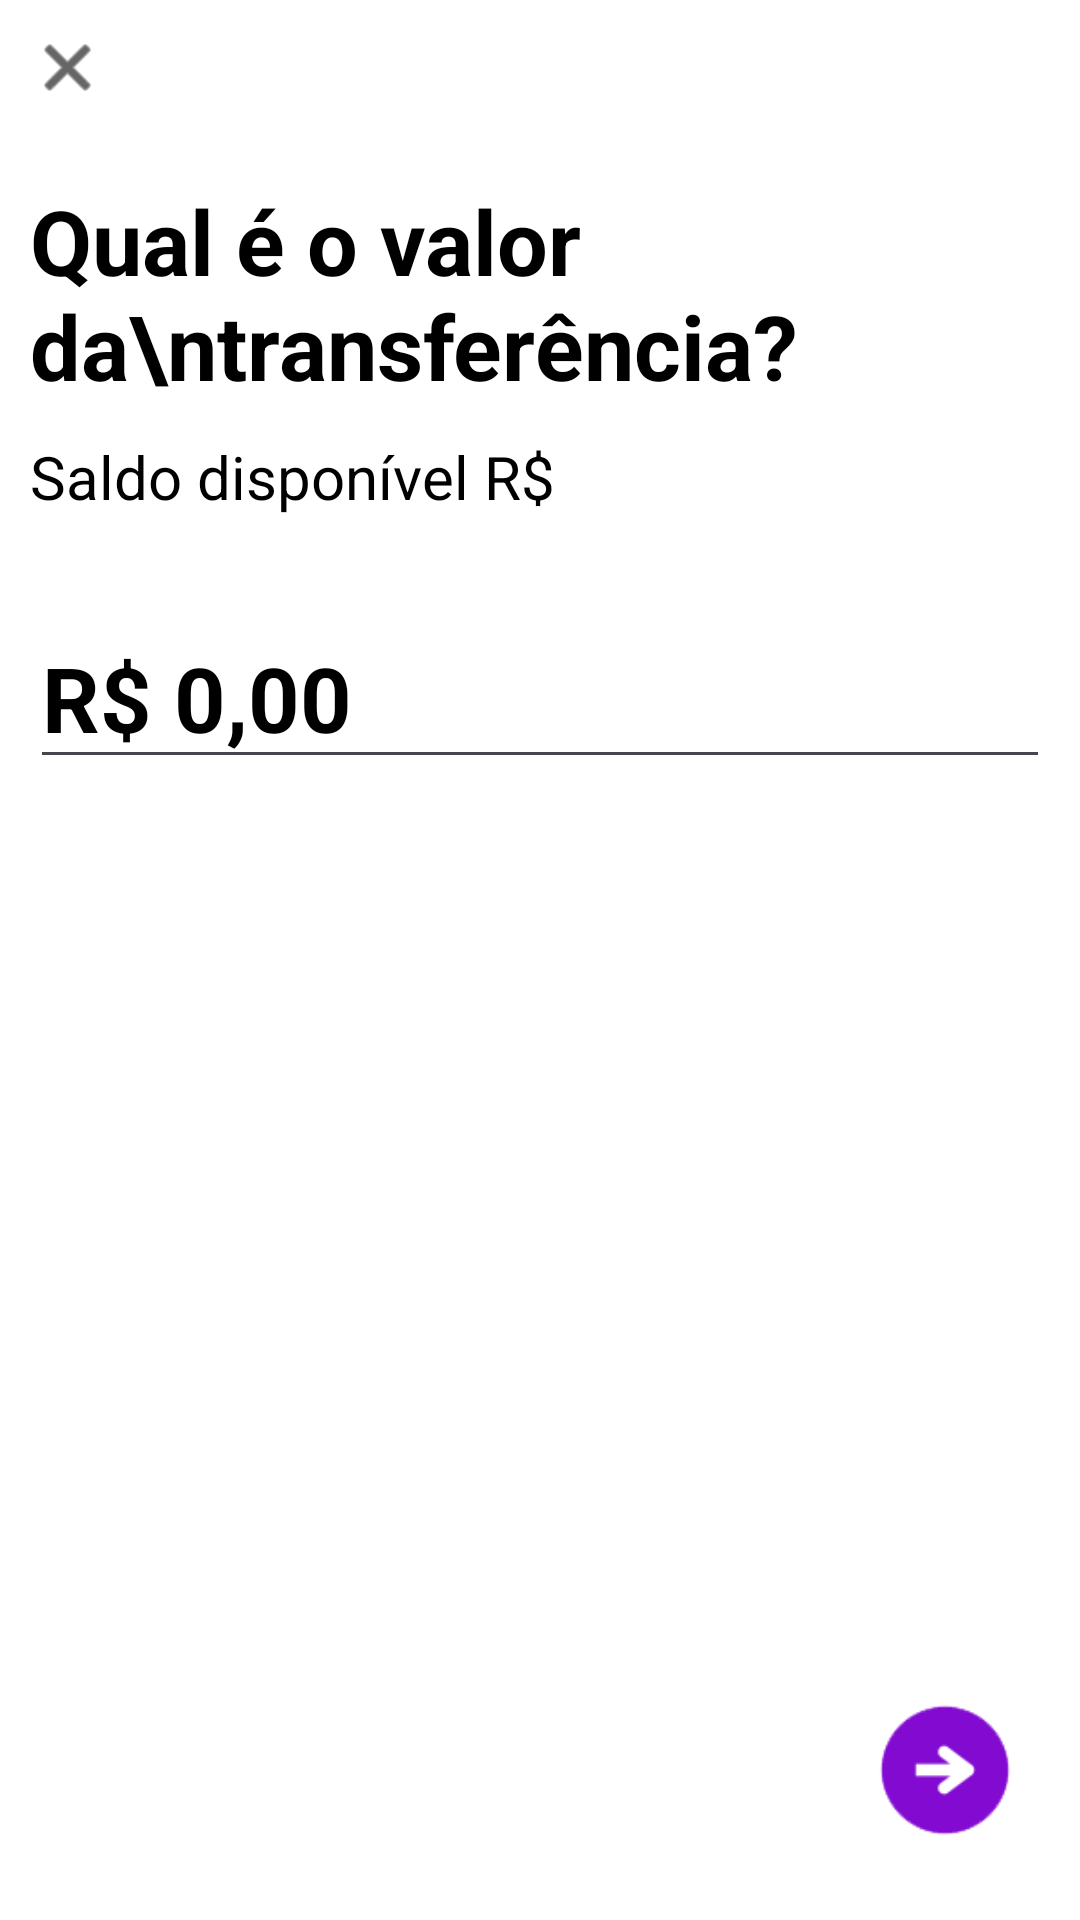

Icons on this 1080px x 1920px Android screen, each with the point to tap as [x,y]:
close clear cancel: [67,67]
send: [945,1770]
